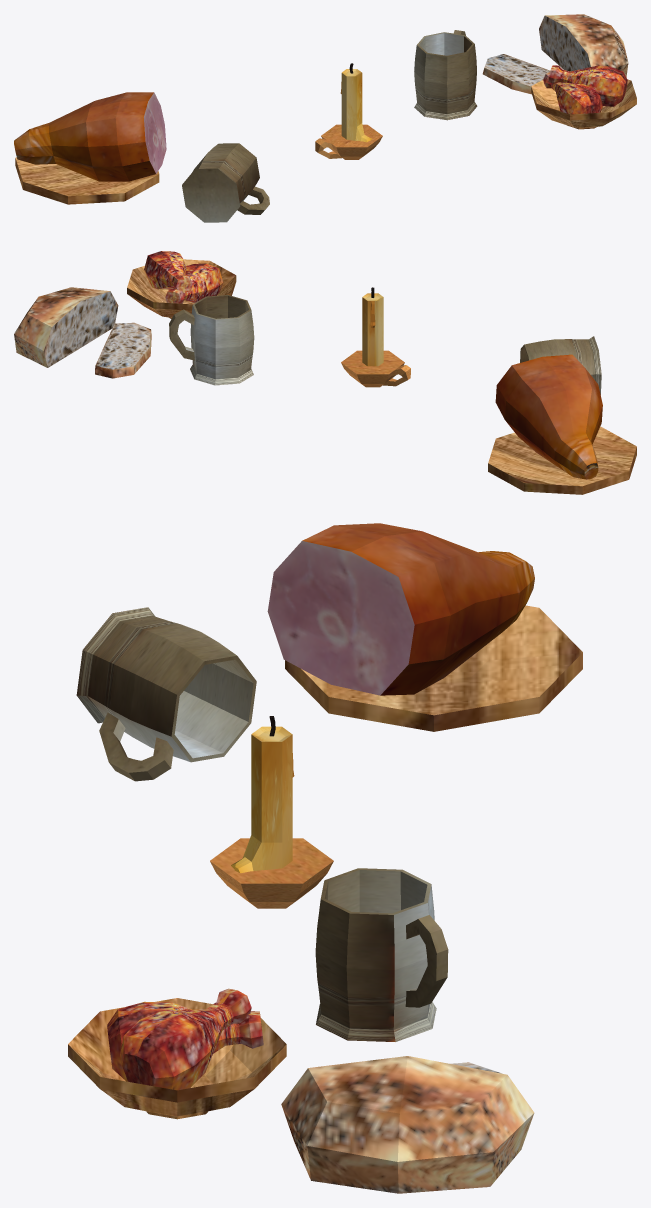
File: TableClutter1.fbx
3 renders of one model, top to bottom at view 1: azimuth 30°, elevation 25°; view 2: azimuth 150°, elevation 25°; view 3: azimuth 270°, elevation 25°, orthographic. The views are drawn at different scales.
Parts seen in each view (by area): view 1: Cube, Cylinder.002, Cylinder.001, Cube.003, Cylinder.004, Cylinder.005, Cube.001, Cube.004, Candle, Base, Cube.005; view 2: Cube, Cylinder.002, Cube.003, Cylinder.004, Cube.004, Cylinder.005, Cylinder.001, Base, Candle, Cube.001, Cube.005; view 3: Cube, Cube.003, Cylinder.001, Cylinder.002, Cylinder.004, Cylinder.005, Cube.001, Candle, Base, Cube.005.
Part boxes in pixels (left/top/right/bottom): Cube: left=14, top=92, right=166, bottom=181; Cylinder.002: left=414, top=30, right=477, bottom=120; Cylinder.001: left=182, top=143, right=269, bottom=222; Cube.003: left=539, top=14, right=628, bottom=77; Cylinder.004: left=15, top=157, right=159, bottom=204; Cylinder.005: left=531, top=79, right=636, bottom=129; Cube.001: left=548, top=65, right=627, bottom=106; Cube.004: left=482, top=54, right=549, bottom=94; Candle: left=340, top=69, right=372, bottom=142; Base: left=315, top=124, right=382, bottom=159; Cube.005: left=543, top=72, right=602, bottom=114; Cube: left=495, top=354, right=602, bottom=479; Cylinder.002: left=169, top=295, right=254, bottom=385; Cube.003: left=14, top=287, right=118, bottom=367; Cylinder.004: left=488, top=426, right=636, bottom=494; Cube.004: left=95, top=322, right=151, bottom=378; Cylinder.005: left=127, top=259, right=236, bottom=318; Cylinder.001: left=520, top=336, right=601, bottom=394; Base: left=341, top=350, right=410, bottom=387; Candle: left=362, top=293, right=383, bottom=366; Cube.001: left=144, top=251, right=192, bottom=292; Cube.005: left=165, top=263, right=223, bottom=303; Cube: left=267, top=523, right=534, bottom=695; Cube.003: left=281, top=1056, right=534, bottom=1193; Cylinder.001: left=76, top=607, right=256, bottom=781; Cylinder.002: left=315, top=868, right=448, bottom=1041; Cylinder.004: left=285, top=605, right=582, bottom=731; Cylinder.005: left=68, top=998, right=286, bottom=1119; Cube.001: left=119, top=988, right=251, bottom=1090; Candle: left=231, top=726, right=294, bottom=873; Base: left=210, top=838, right=333, bottom=908; Cube.005: left=107, top=1001, right=263, bottom=1081.
Bounding box in the file's own units: 387 × 58.43 × 146.
Materials: 1 (1 with a texture image).
